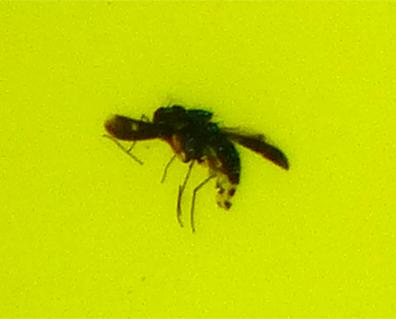Brachycera: (100, 100, 296, 219)
